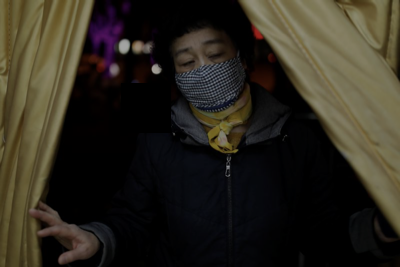with_mask: (172, 37, 245, 111)
